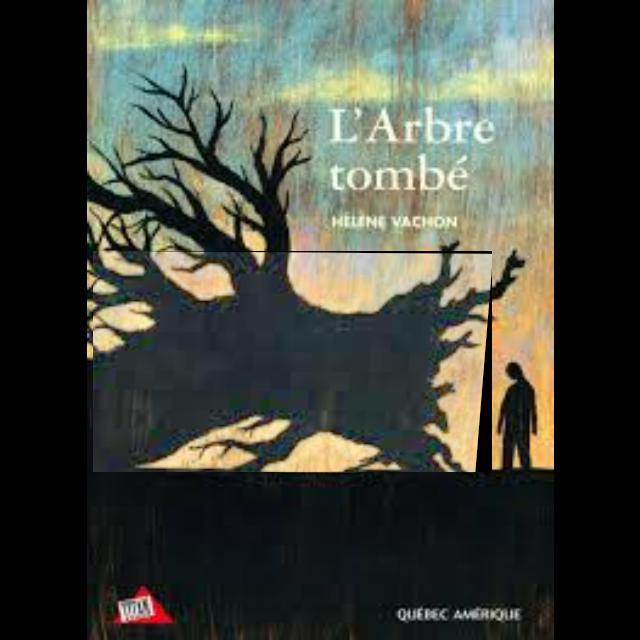fallen_tree: (93, 251, 493, 473)
